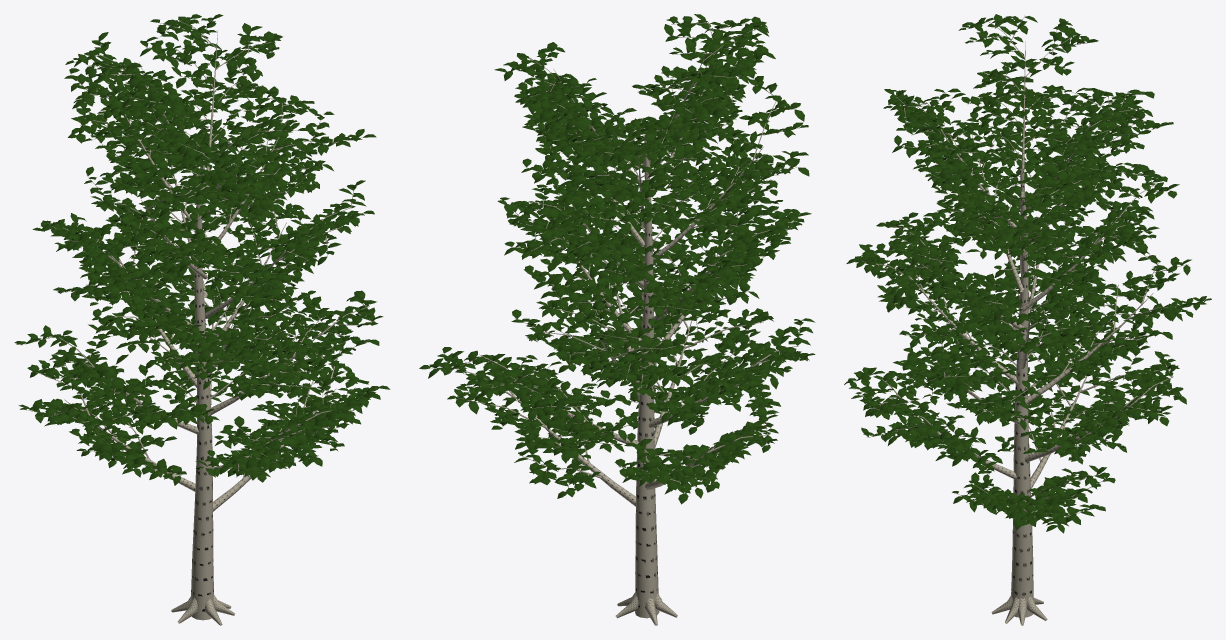
The model's file is SilverBirch_A.fbx.
3 renders of one model, left to right at view 1: azimuth 30°, elevation 25°; view 2: azimuth 150°, elevation 25°; view 3: azimuth 270°, elevation 25°, orthographic. The views are drawn at different scales.
Parts seen in each view (by area): view 1: SilverBirch_A_LOD0; view 2: SilverBirch_A_LOD0; view 3: SilverBirch_A_LOD0.
Boxes of the visible parts, left/top/right/bottom form: SilverBirch_A_LOD0: left=14, top=14, right=390, bottom=625; SilverBirch_A_LOD0: left=419, top=14, right=815, bottom=625; SilverBirch_A_LOD0: left=844, top=14, right=1211, bottom=625.
Size of what is drawn, in the model's own units: 6.91 by 11.08 by 6.65.
